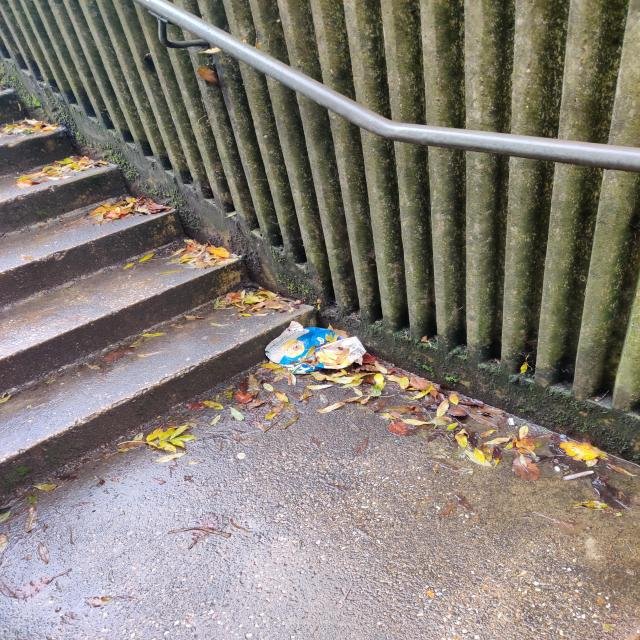litter: (265, 321, 368, 374)
